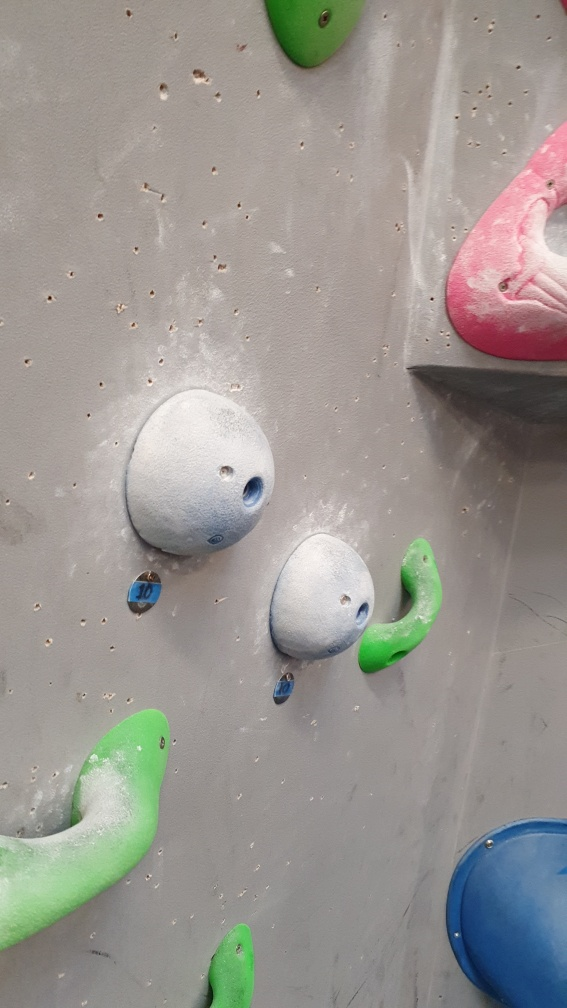Hand Start: (125, 570, 162, 618), (266, 666, 301, 712)
Pocket: (448, 118, 567, 369)
Sloper: (122, 377, 277, 563), (274, 531, 378, 662)
